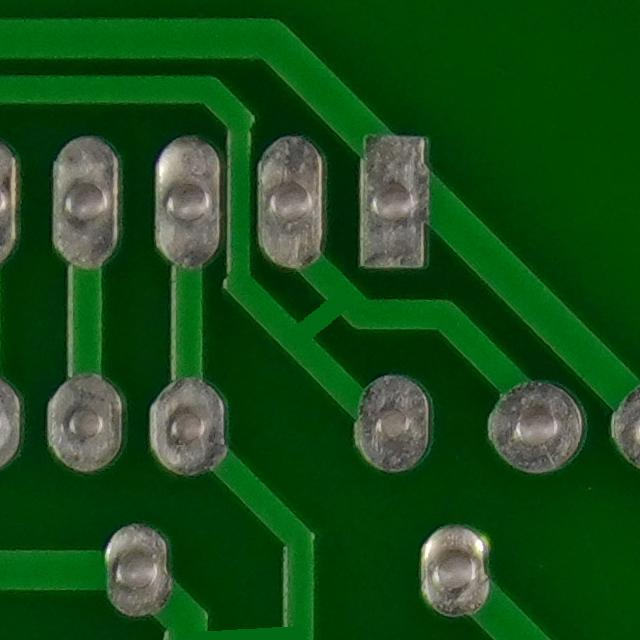short: (265, 283, 375, 357)
